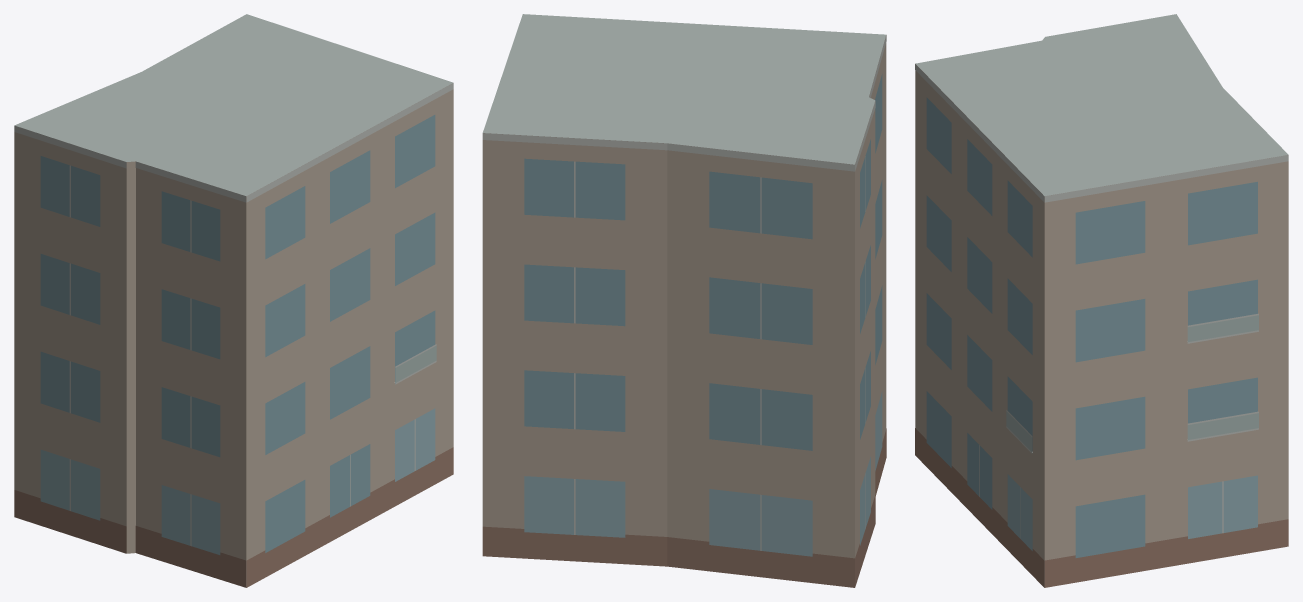
The model's file is survey-upis-32475433.glb.
The picture shows the model from 3 angles, left to right: view 1: azimuth 30°, elevation 25°; view 2: azimuth 150°, elevation 25°; view 3: azimuth 270°, elevation 25°; orthographic projection. The views are drawn at different scales.
Parts seen in each view (by area): view 1: survey-upis-32475433.tmp; view 2: survey-upis-32475433.tmp; view 3: survey-upis-32475433.tmp.
Boxes of the visible parts, left/top/right/bottom form: survey-upis-32475433.tmp: left=14, top=14, right=453, bottom=587; survey-upis-32475433.tmp: left=482, top=14, right=886, bottom=587; survey-upis-32475433.tmp: left=915, top=14, right=1288, bottom=587.
Size of the model in its own units: 14.78 by 14.8 by 12.8.
